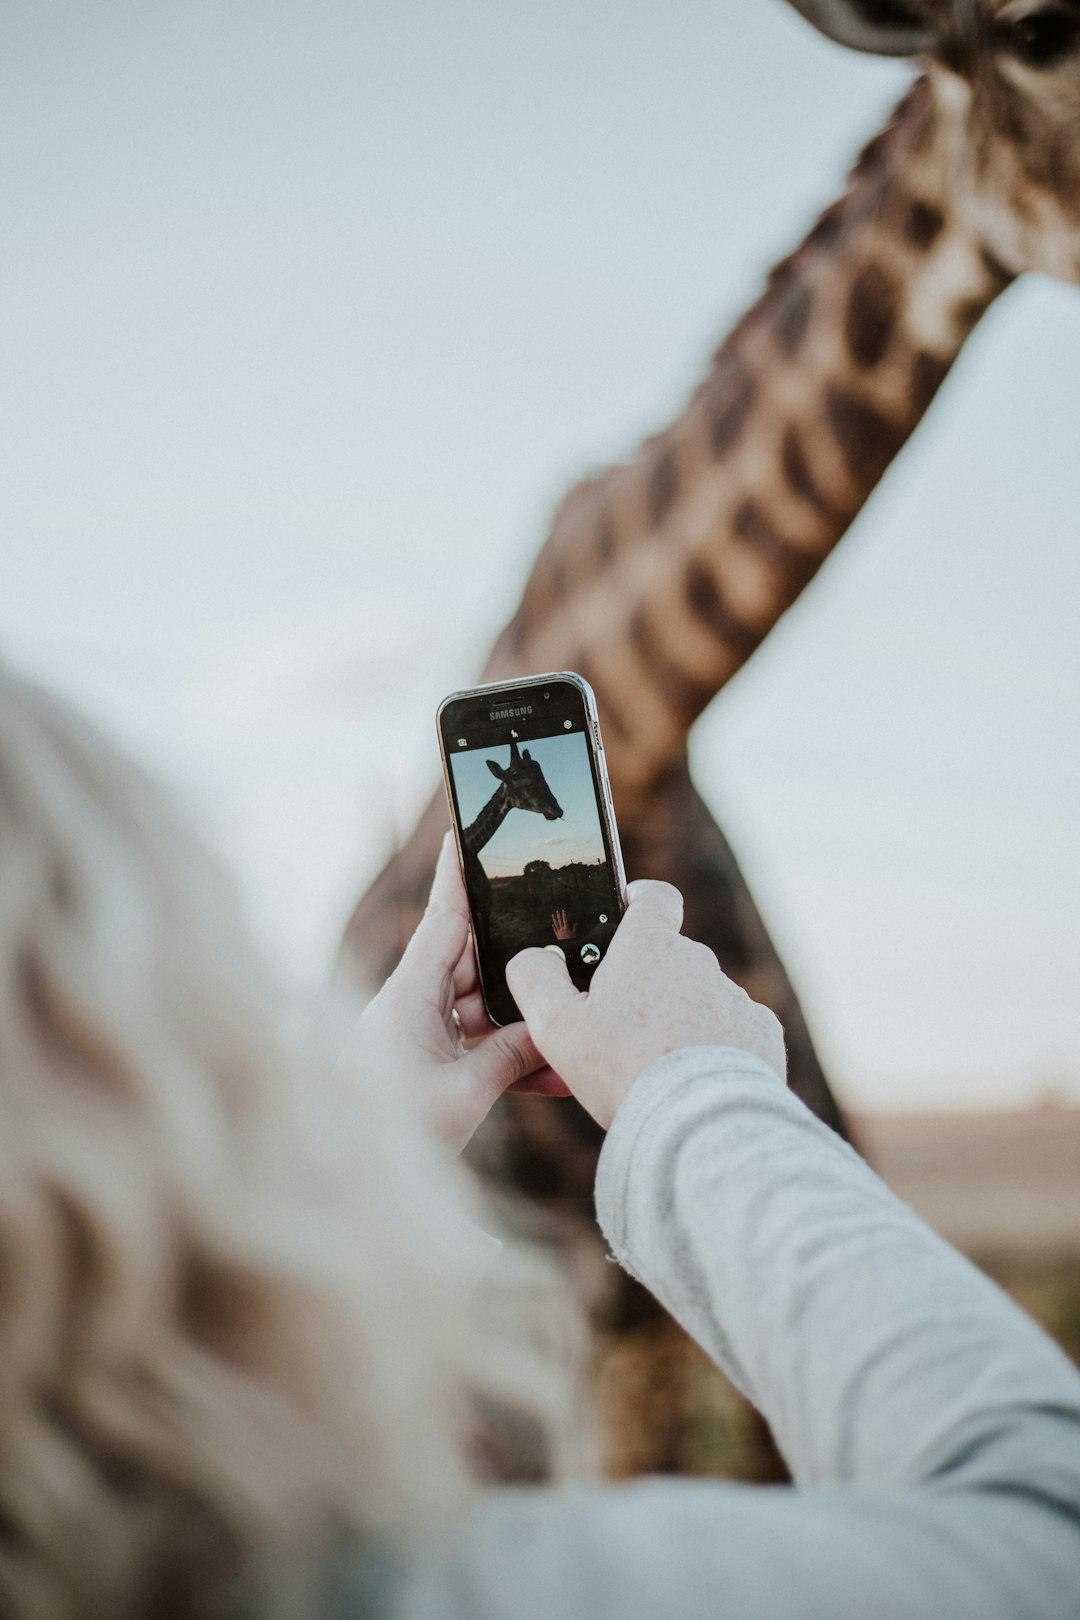phone: (434, 668, 652, 1034)
